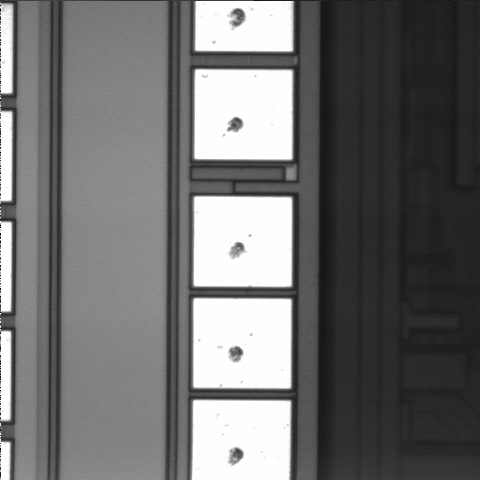pad: (194, 69, 292, 160), (194, 197, 292, 287), (193, 298, 291, 388)
